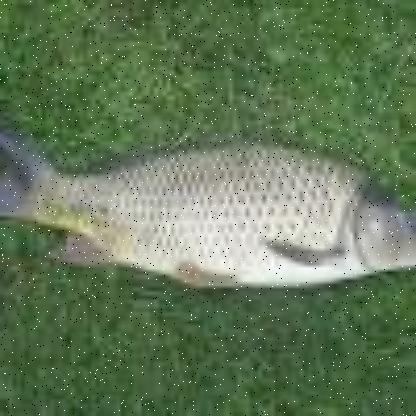ikan-mas: (0, 132, 412, 294)
